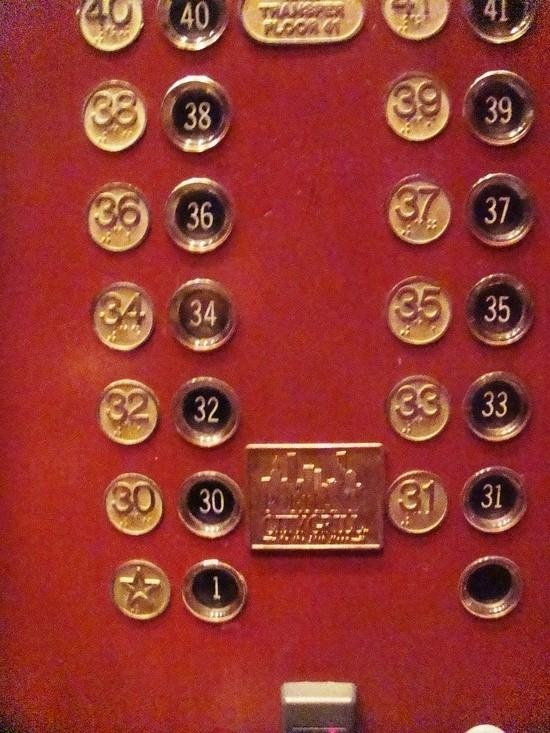1: (179, 554, 247, 626)
30: (99, 468, 167, 540), (175, 468, 243, 540)
31: (383, 466, 452, 538), (460, 465, 529, 537)
32: (91, 374, 162, 452), (171, 374, 242, 452)
33: (460, 371, 531, 444), (384, 371, 453, 443)
34: (88, 277, 159, 355), (165, 275, 236, 353)
35: (463, 272, 535, 348), (384, 273, 453, 345)
36: (80, 177, 154, 255), (162, 177, 236, 255)
37: (464, 169, 540, 249), (384, 173, 453, 245)
38: (77, 77, 151, 155), (159, 75, 233, 153)
39: (460, 69, 538, 148), (382, 70, 451, 142)
40: (160, 1, 227, 54)
empty: (457, 550, 525, 622)
s: (106, 554, 174, 626)
